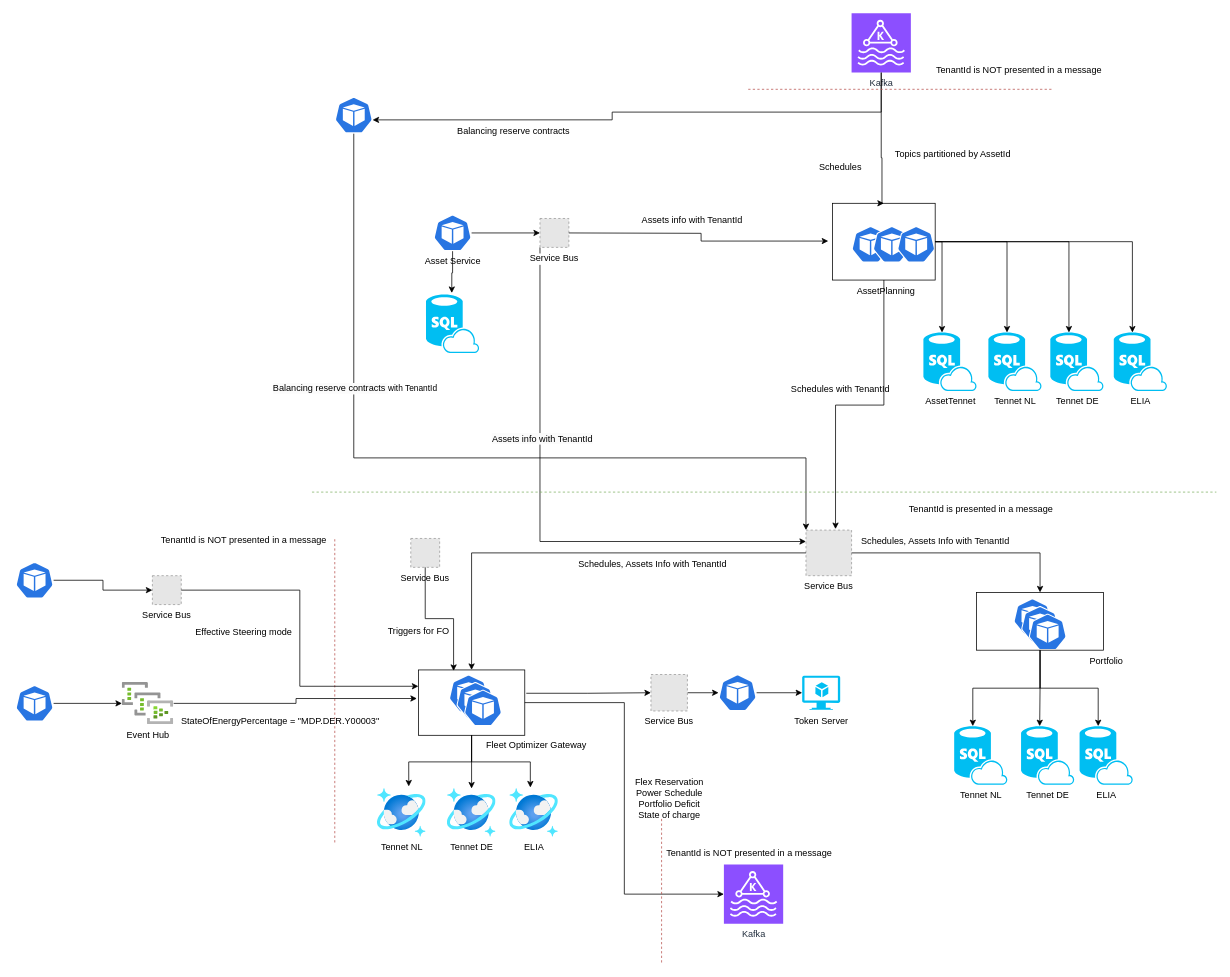
The diagram is 1230 pixels wide and 977 high, and some of its shapes have lost their labels. Grey dashed boxes stand in for pictures. Each missing label, with the centre of its shape:
"AGRO" belongs at point 34,703.
"Dispatcher" belongs at point 34,579.
"Fleet Optimizer Solver" belongs at point 737,692.
"MarketInteraction" belongs at point 353,114.
"Shared DB" belongs at point 452,323.
